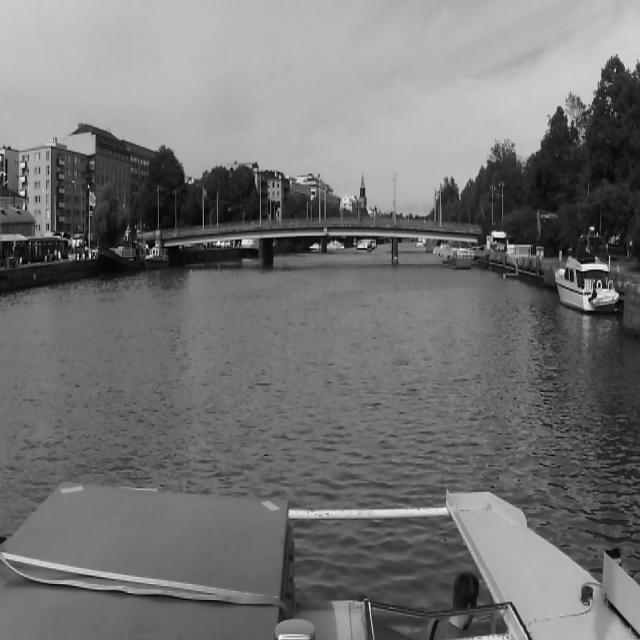ship: (554, 232, 618, 314), (98, 225, 142, 276), (146, 243, 170, 270)
